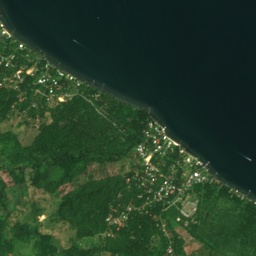Ship: (72, 38, 85, 48)
